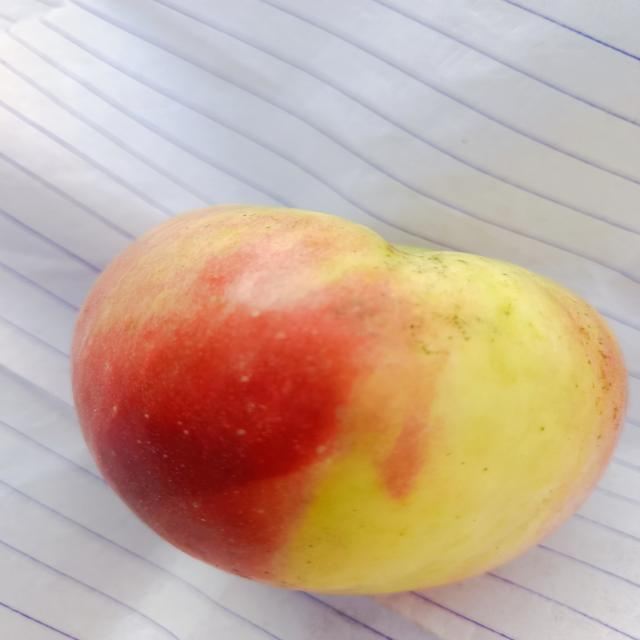Fresh Apple: (85, 204, 617, 608)
